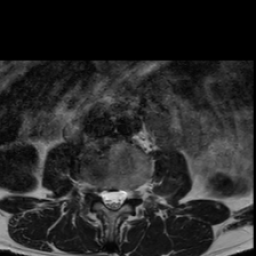CCS_normal: (109, 179, 117, 217)
LFS_normal: (126, 180, 135, 207)
LLS_normal: (117, 180, 126, 212)
RFS_normal: (91, 175, 101, 202)
RLS_normal: (101, 181, 109, 212)
